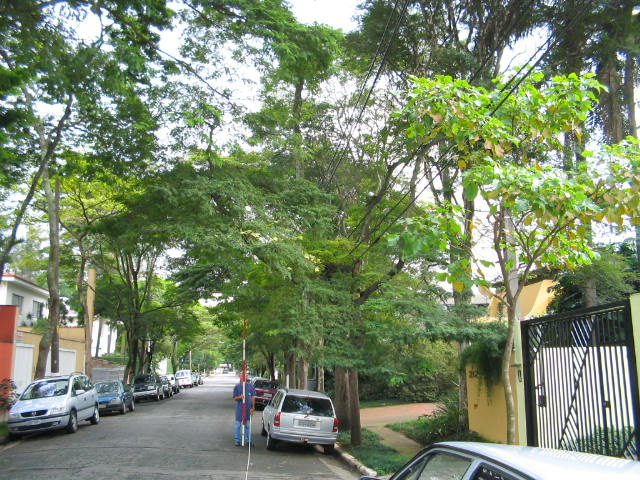stick: (238, 317, 249, 447)
